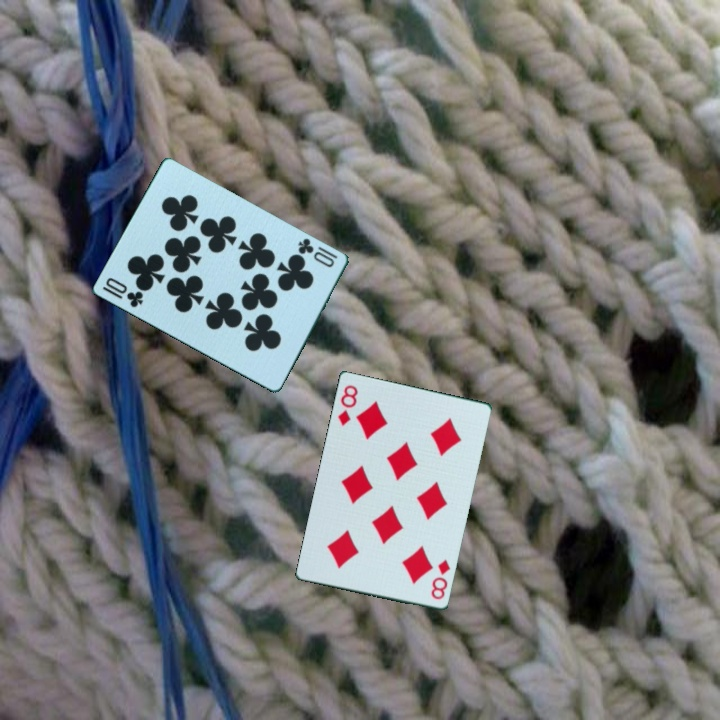10c: (295, 234, 338, 271), (99, 283, 147, 311)
8d: (334, 382, 361, 429), (428, 556, 453, 603)
